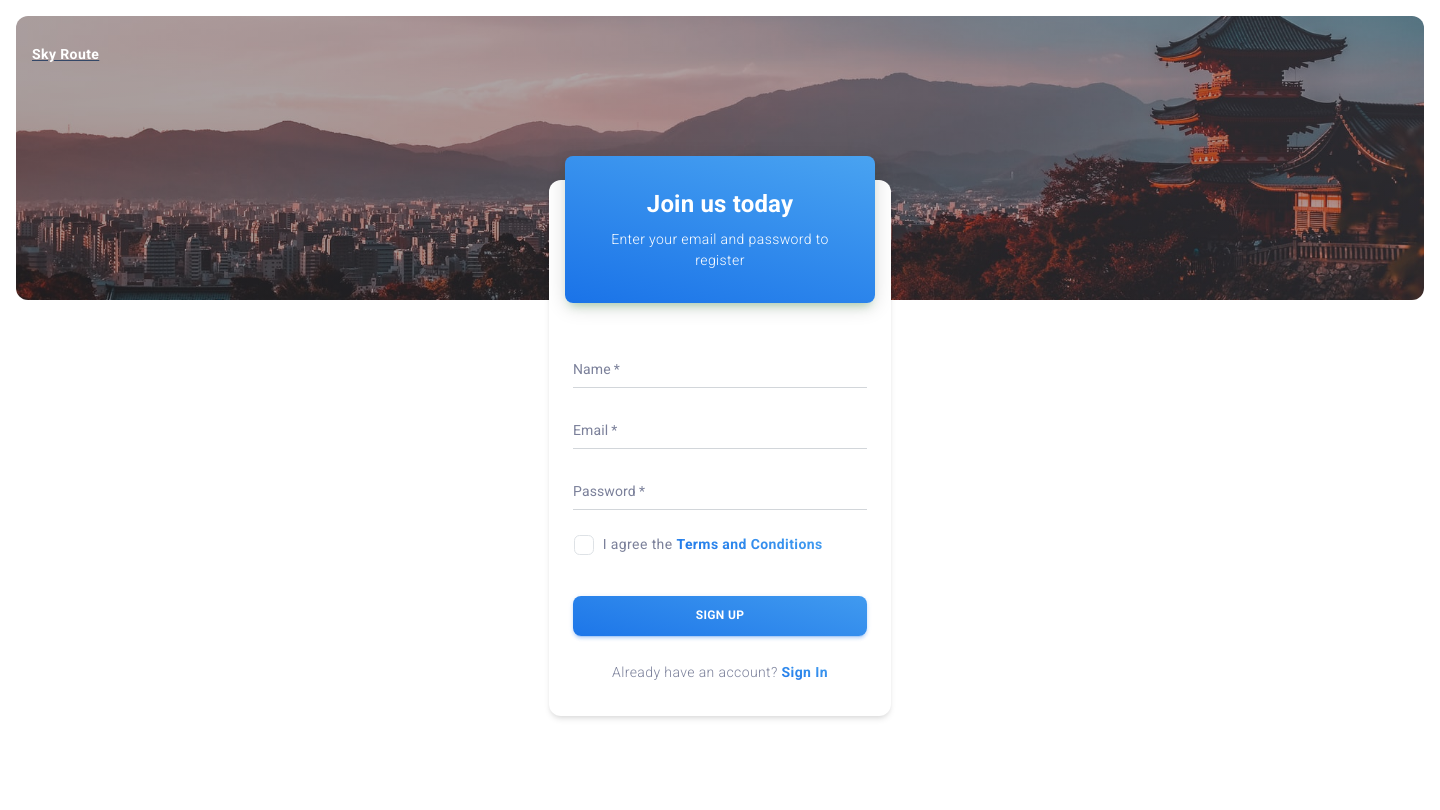
Cover Component (Signup) › shows error message on failed signup
Type "Test User" into the field labelled "Name *" at (720, 373), box [573,358,867,388]
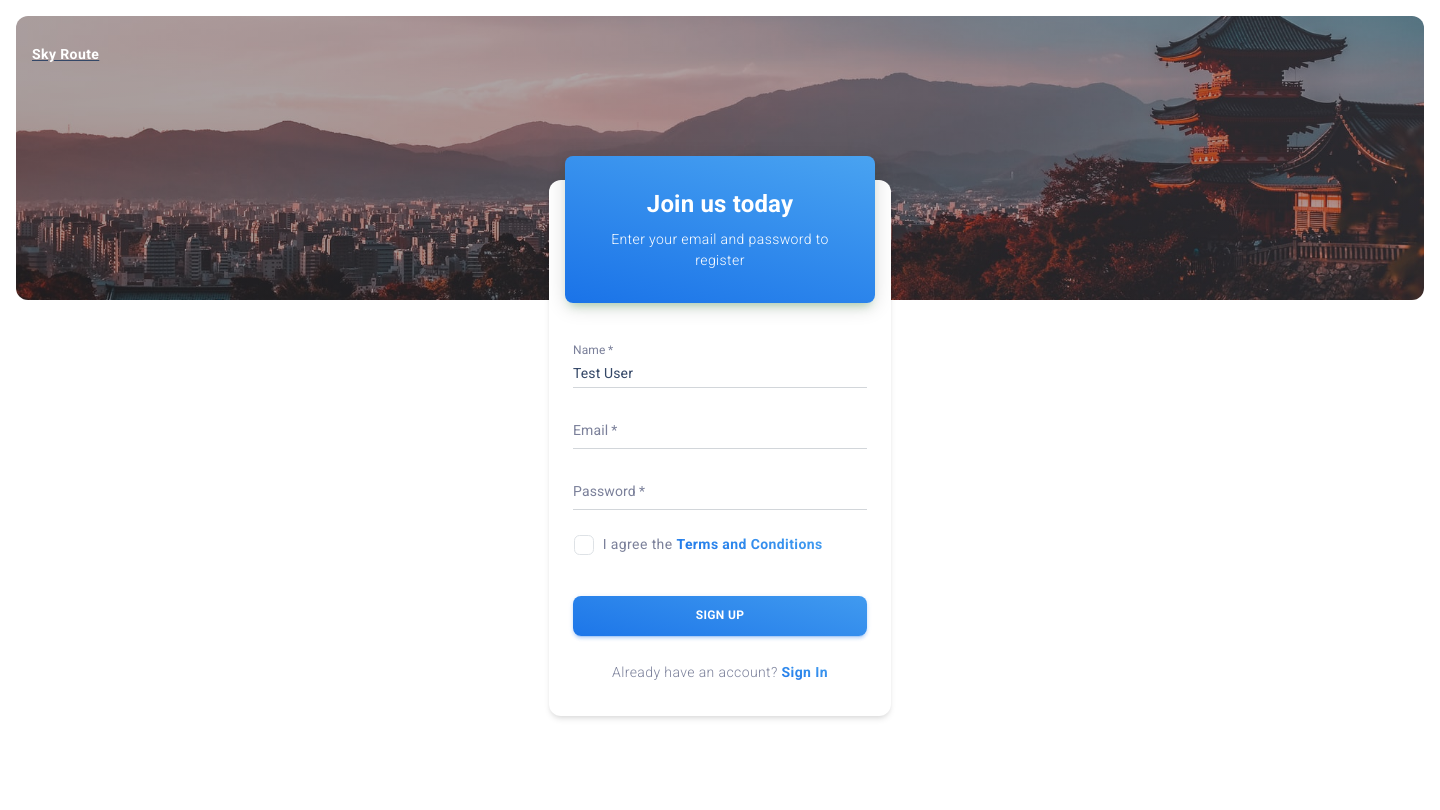
Type "test@example.com" into the field labelled "Email *" at (720, 434), box [573,420,867,449]
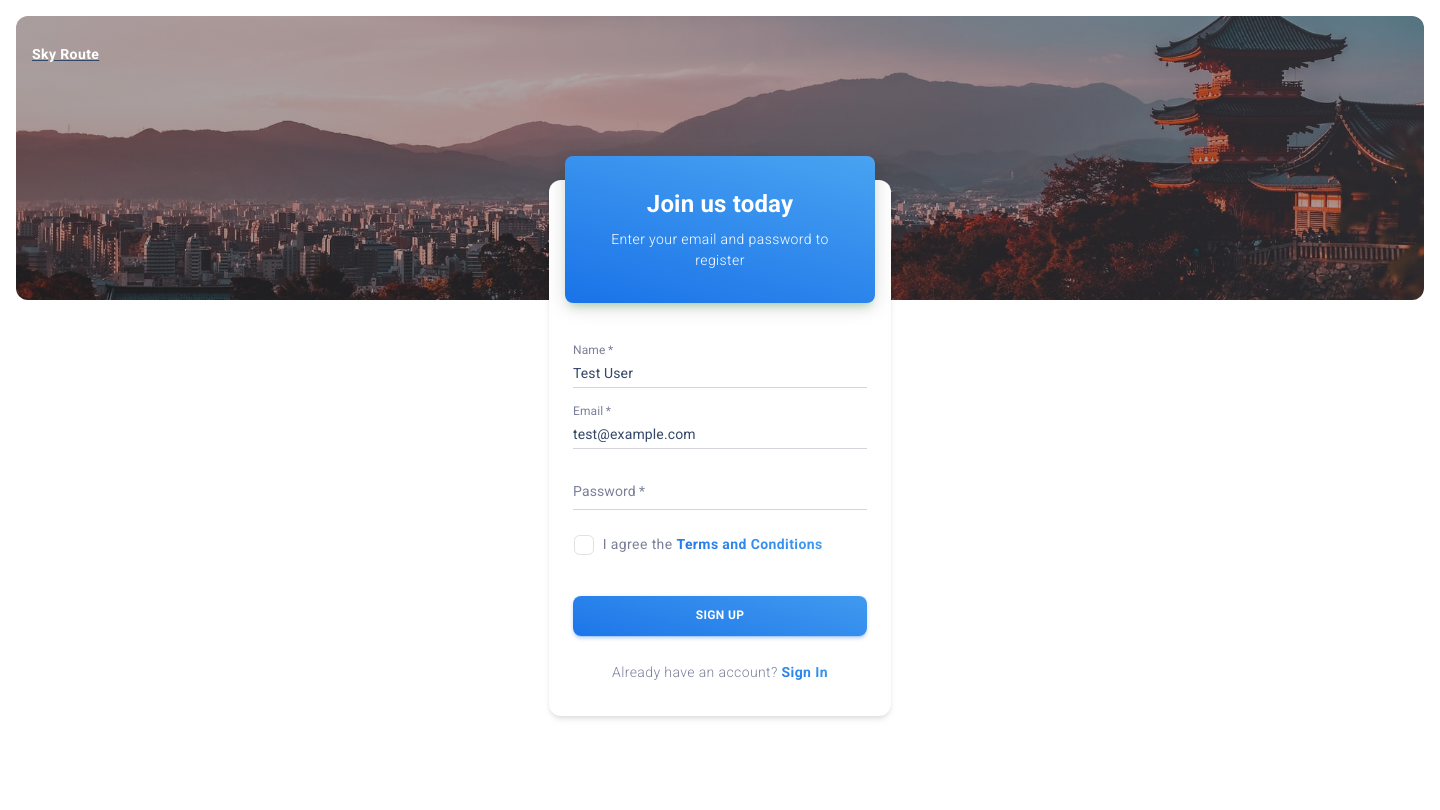
Type "password123" into the password field labelled "Password *" at (720, 495), box [573,481,867,510]
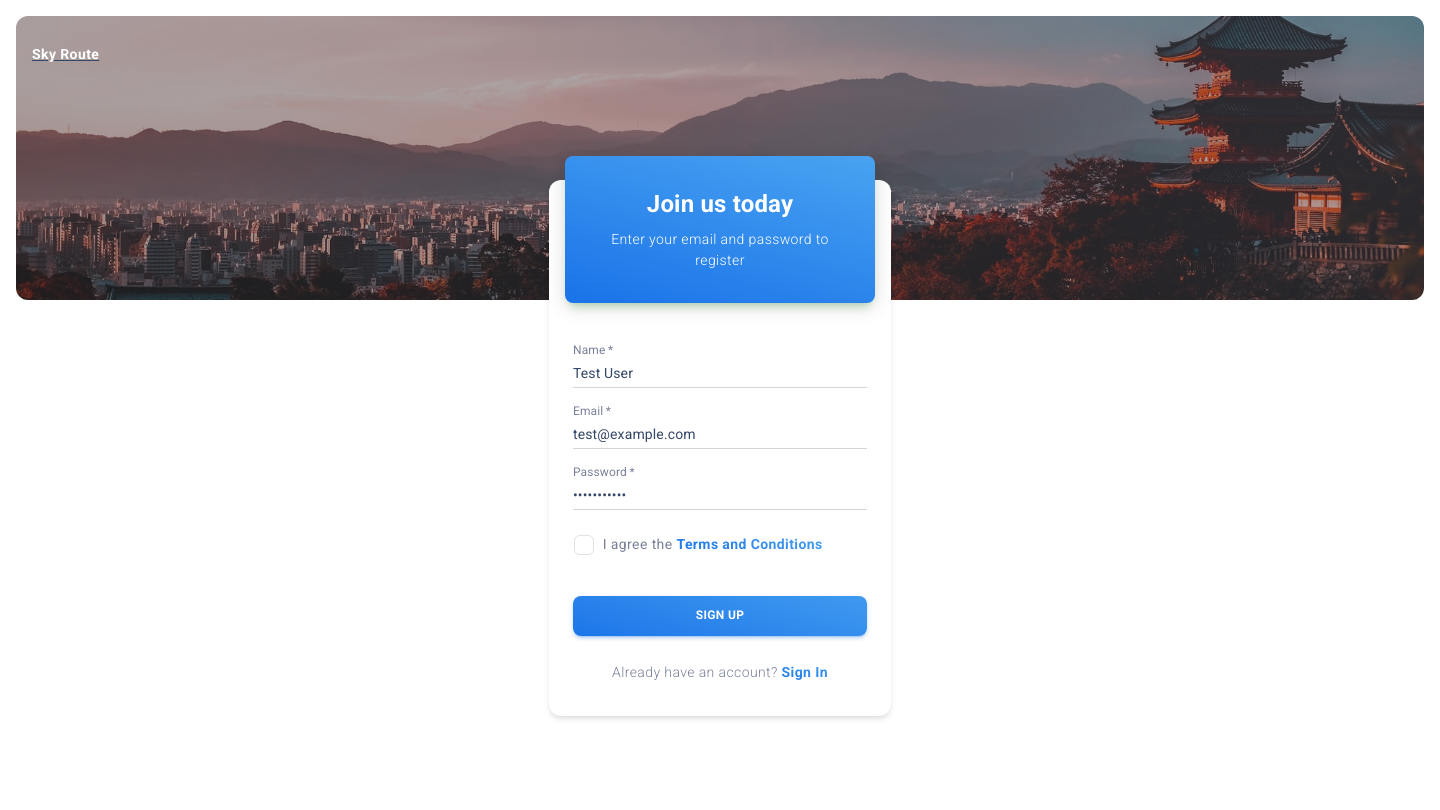
Click the button "Sign Up" at (720, 616), box [573,596,867,636]
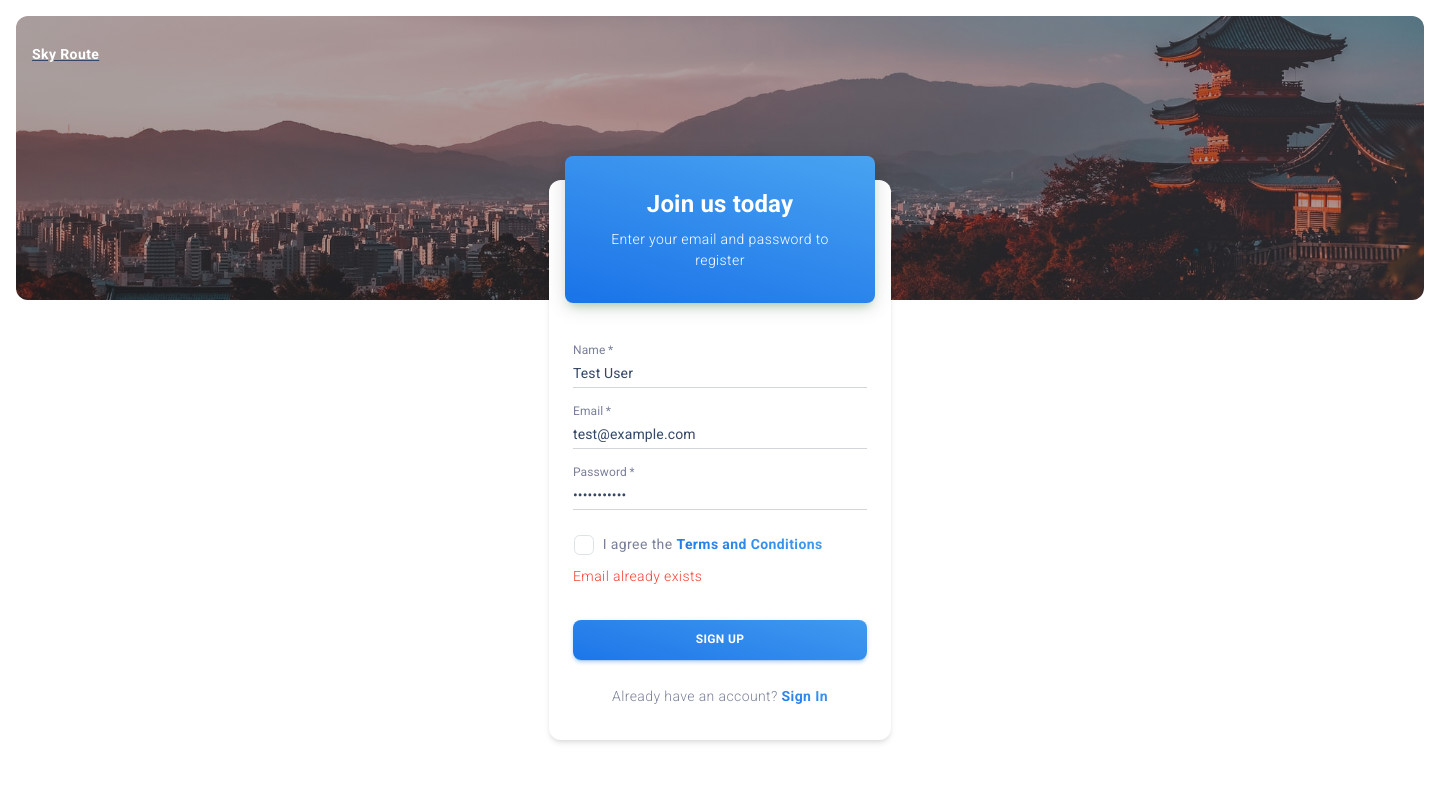
Expected: the button "Sign Up" is enabled, [573,620,867,660]
Expected: the button "Email already exists" is shown, [573,568,702,584]
